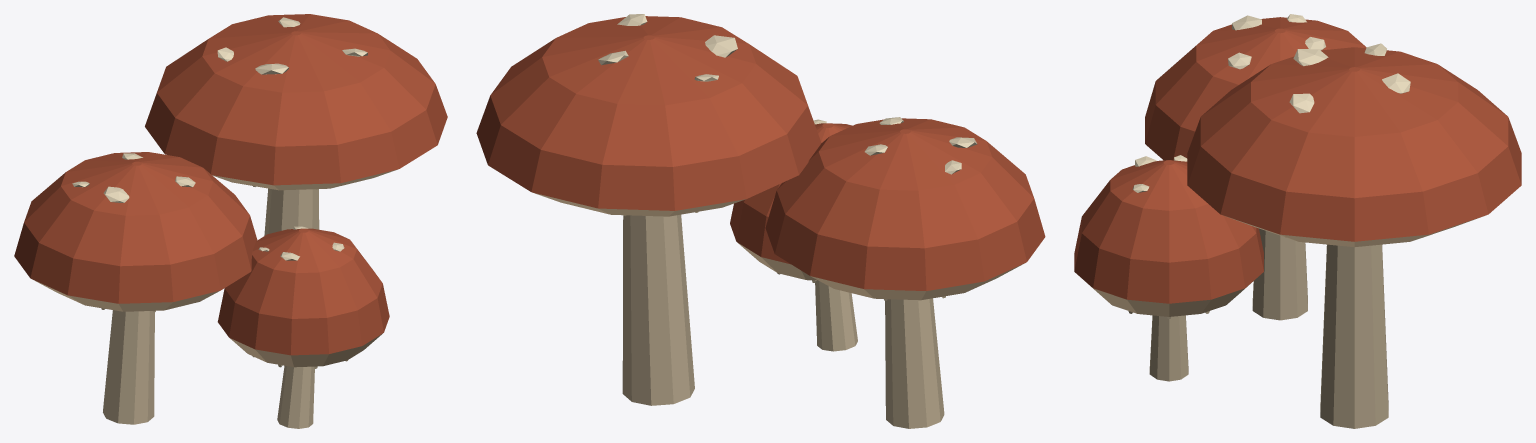
File: mushrooms_rust.fbx
The picture shows the model from 3 angles, left to right: view 1: azimuth 30°, elevation 25°; view 2: azimuth 150°, elevation 25°; view 3: azimuth 270°, elevation 25°; orthographic projection. The views are drawn at different scales.
Visible parts, largest first — view 1: mushrooms_rust; view 2: mushrooms_rust; view 3: mushrooms_rust.
Boxes of the visible parts, x1,y1,x2,y2 form: mushrooms_rust: [14, 14, 447, 428]; mushrooms_rust: [476, 14, 1045, 428]; mushrooms_rust: [1074, 14, 1521, 428].
Bounding box in the file's own units: 60.5 × 41.6 × 48.27.
